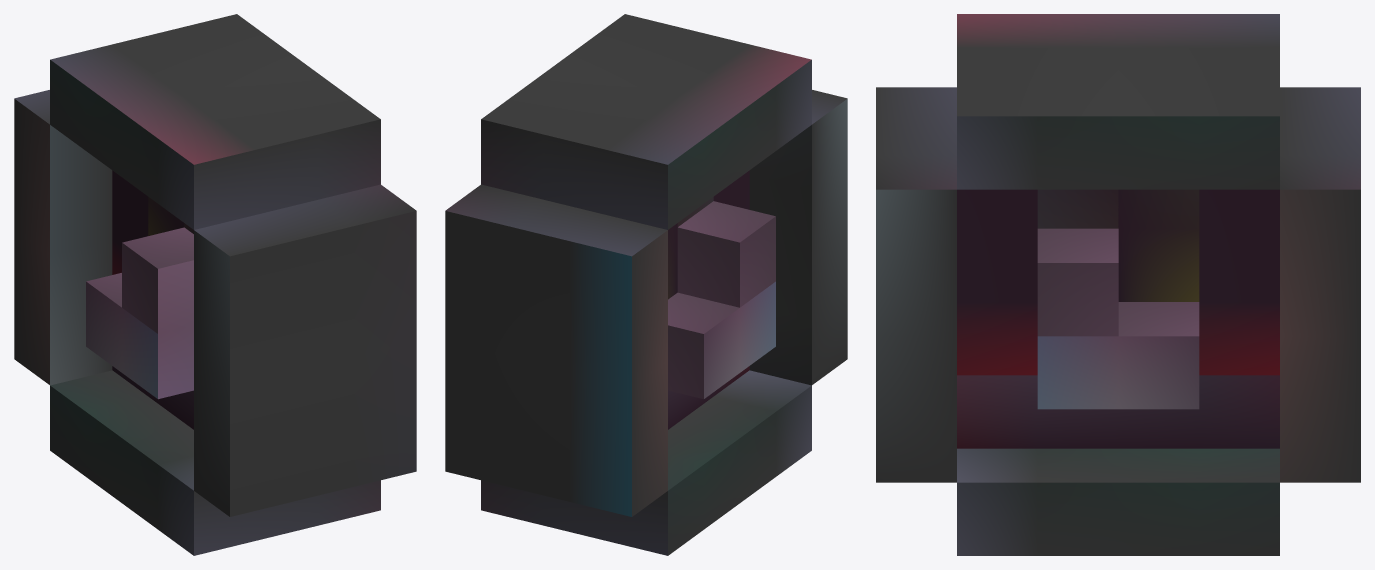
The model's file is Scooter_Small_Wheel_00.fbx.
The picture shows the model from 3 angles, left to right: view 1: azimuth 30°, elevation 25°; view 2: azimuth 150°, elevation 25°; view 3: azimuth 270°, elevation 25°; orthographic projection. The views are drawn at different scales.
Parts seen in each view (by area): view 1: Scooter_Small_Wheel_00; view 2: Scooter_Small_Wheel_00; view 3: Scooter_Small_Wheel_00.
Boxes of the visible parts, x1,y1,x2,y2 form: Scooter_Small_Wheel_00: (14, 14, 416, 555); Scooter_Small_Wheel_00: (445, 14, 847, 555); Scooter_Small_Wheel_00: (876, 14, 1360, 555).
Bounding box in the file's own units: 15 × 30 × 30.
